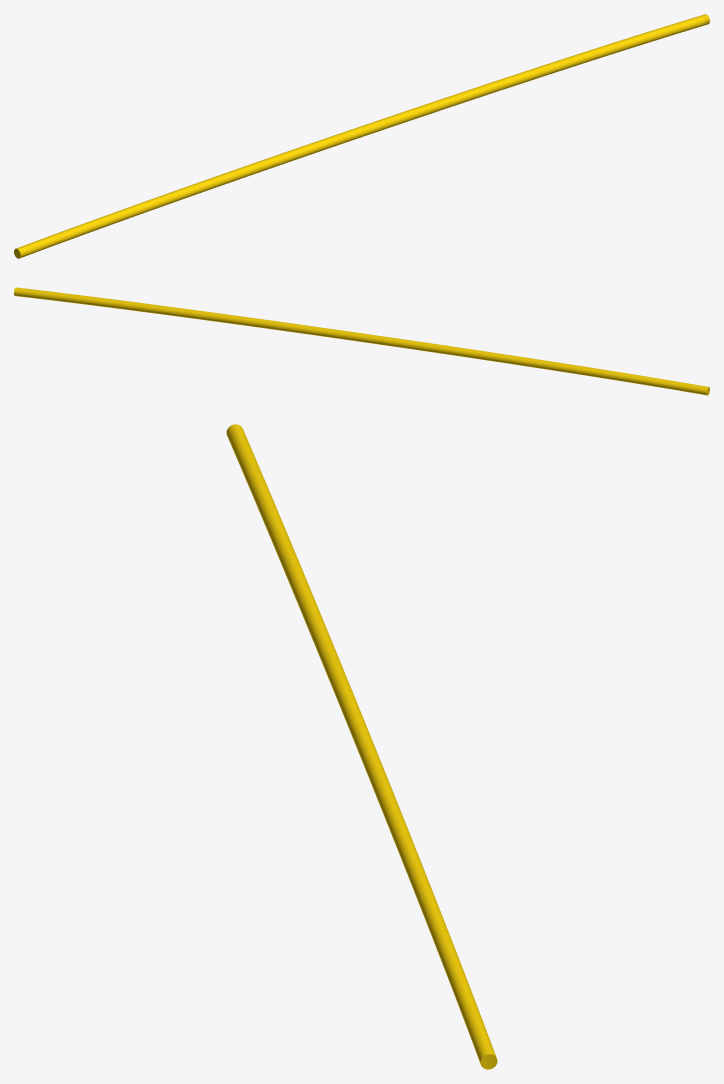
Rendered from Event_421115418_track_43.fbx.
3 renders of one model, top to bottom at view 1: azimuth 30°, elevation 25°; view 2: azimuth 150°, elevation 25°; view 3: azimuth 270°, elevation 25°, orthographic. The views are drawn at different scales.
Visible parts, largest first — view 1: Model; view 2: Model; view 3: Model.
Part boxes in pixels (x1=…): Model: x1=14, y1=14, x2=709, y2=258; Model: x1=14, y1=287, x2=709, y2=395; Model: x1=226, y1=424, x2=497, y2=1069.
Size of the model in its own units: 3.36 by 0.0847 by 0.6247.
